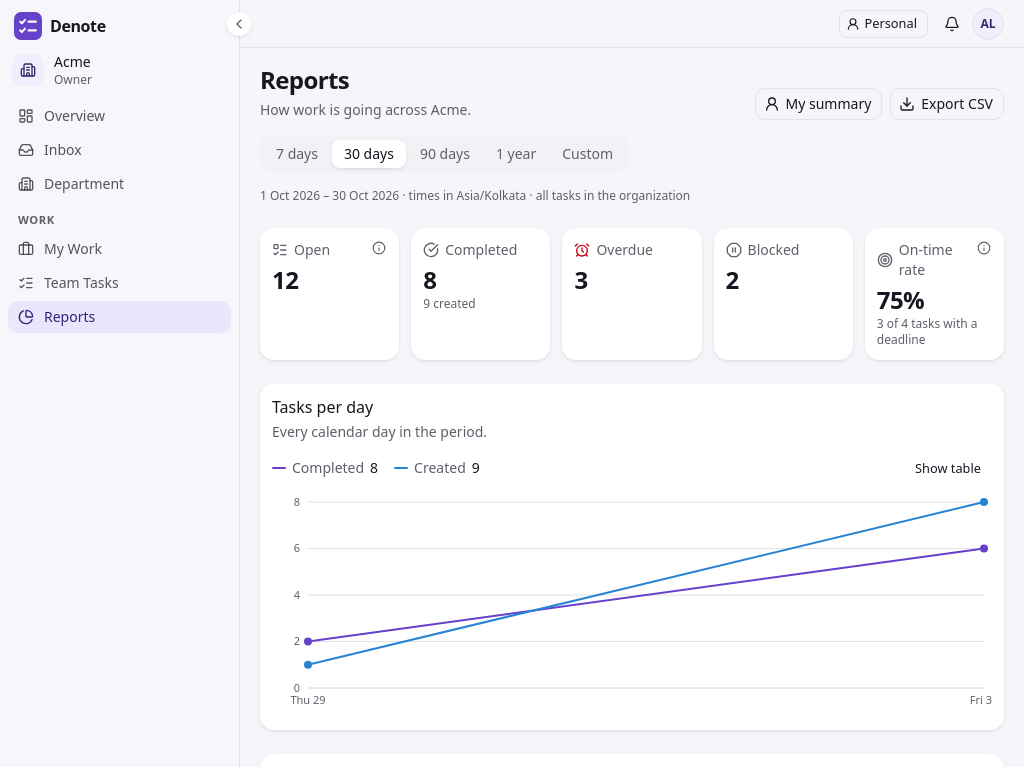
Test: Organization report › offers the trend as a table
What coordinates should you click on to do the following:
click the button "Show table"
I would click on:
 (948, 468)
Its box is 904,454 -> 992,482.
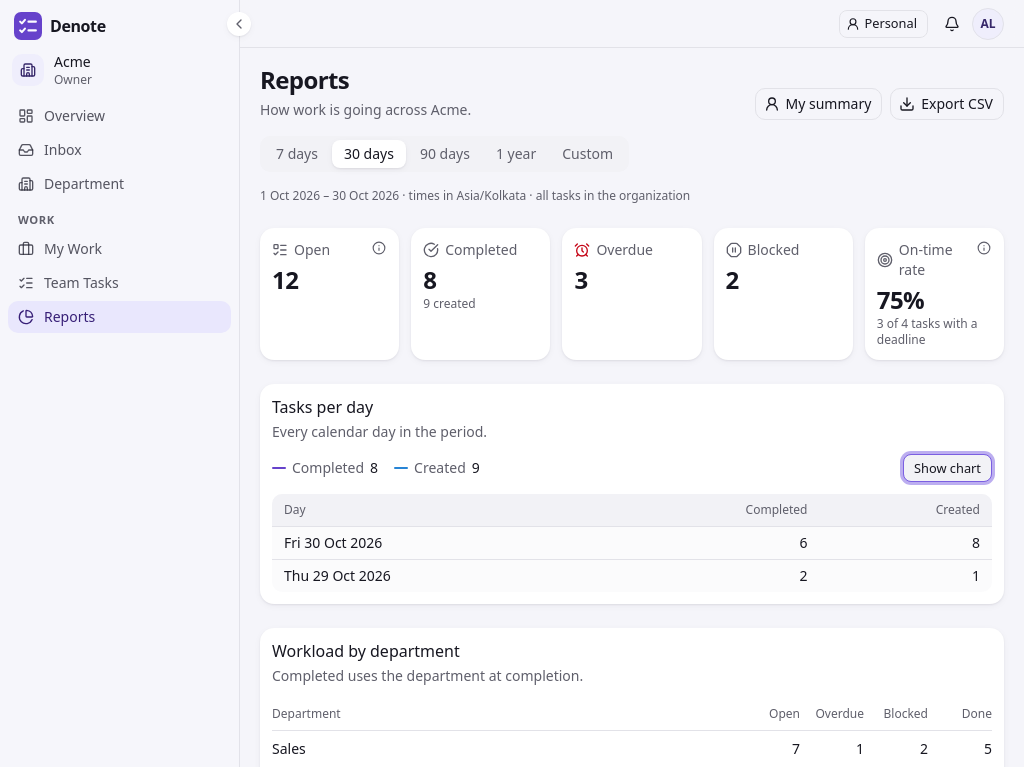
Expected: the table that starts with "Day" is shown, 272,494 -> 992,592
